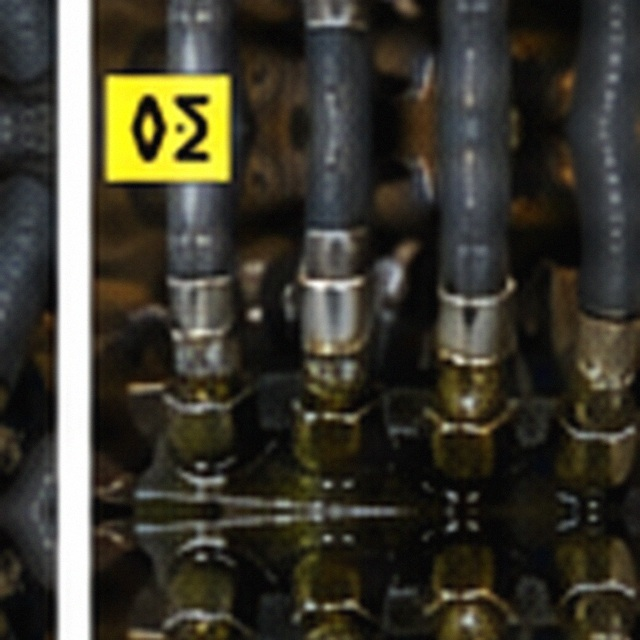hydraulic_oil_leak: (172, 209, 423, 451)
